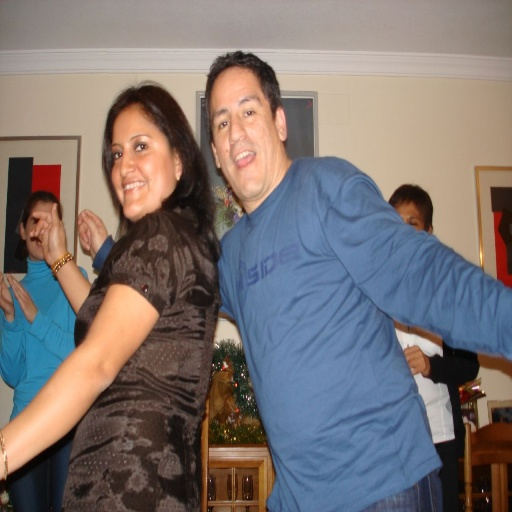hand: (16, 198, 63, 277), (76, 208, 108, 259), (6, 274, 36, 321), (403, 342, 430, 376), (0, 273, 14, 317)
